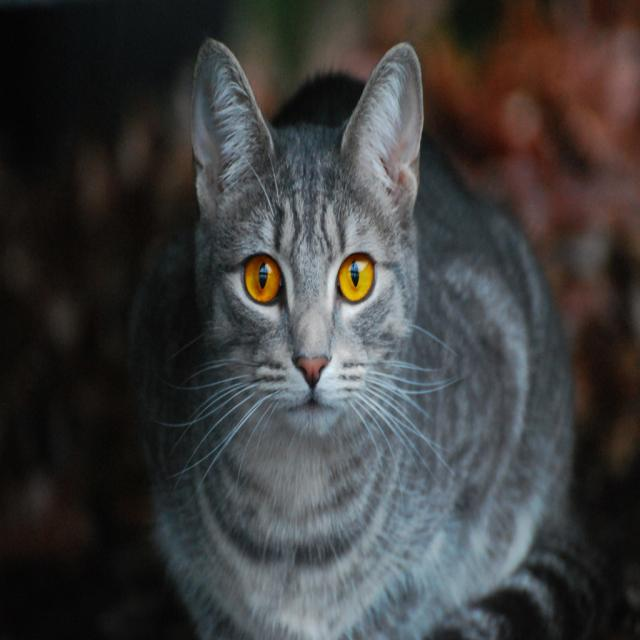Cat: (125, 35, 624, 639)
